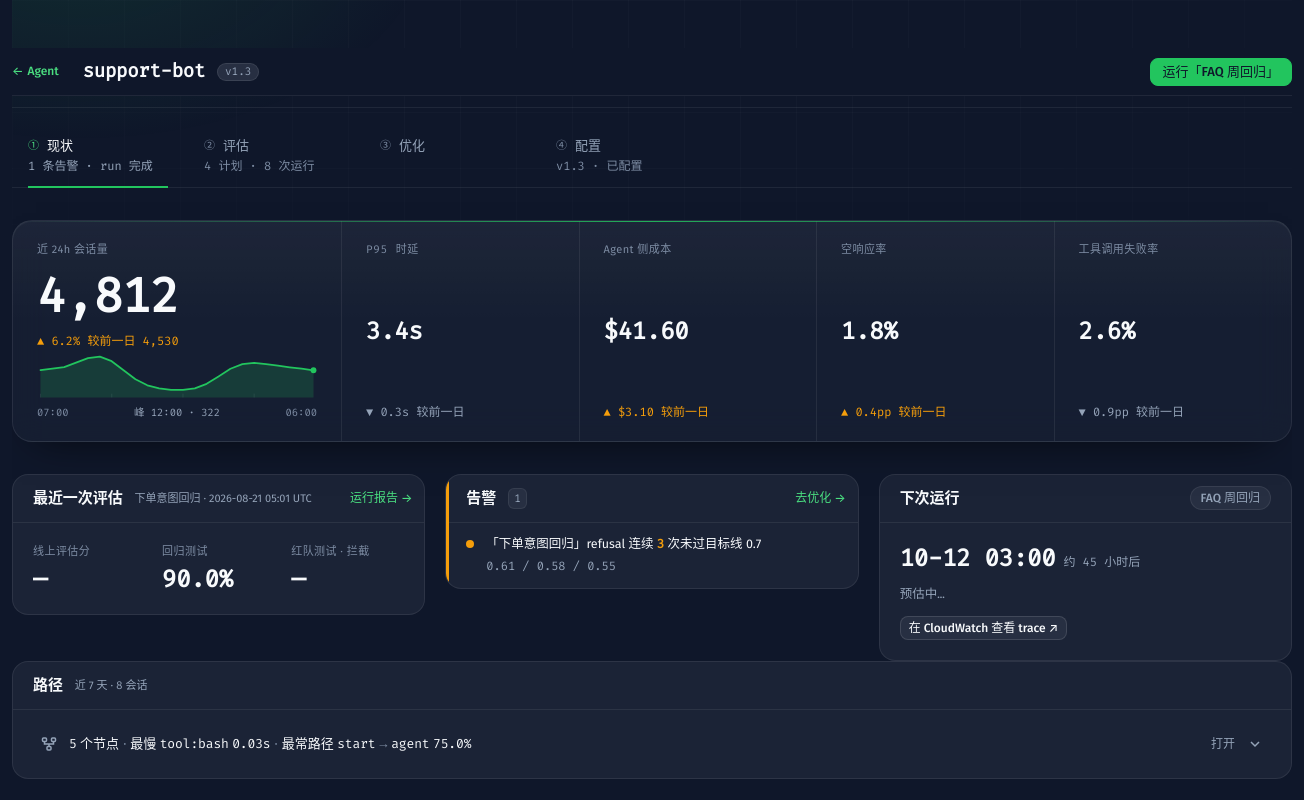
Scenario: ① 现状 › 告警卡：1 条「refusal 连续 3 次未过目标线 0.7」+ 三个值；点 → ③；下次运行卡：计划 chip · 时刻 · 预估 $ · CloudWatch 深链
Expected: the text with test id "agent-alerts-count" reads "1", top-left (514, 491), bottom-right (521, 506)
Click the button with test id "agent-alert".
click(536, 543)  # box top-left (446, 523), bottom-right (858, 588)
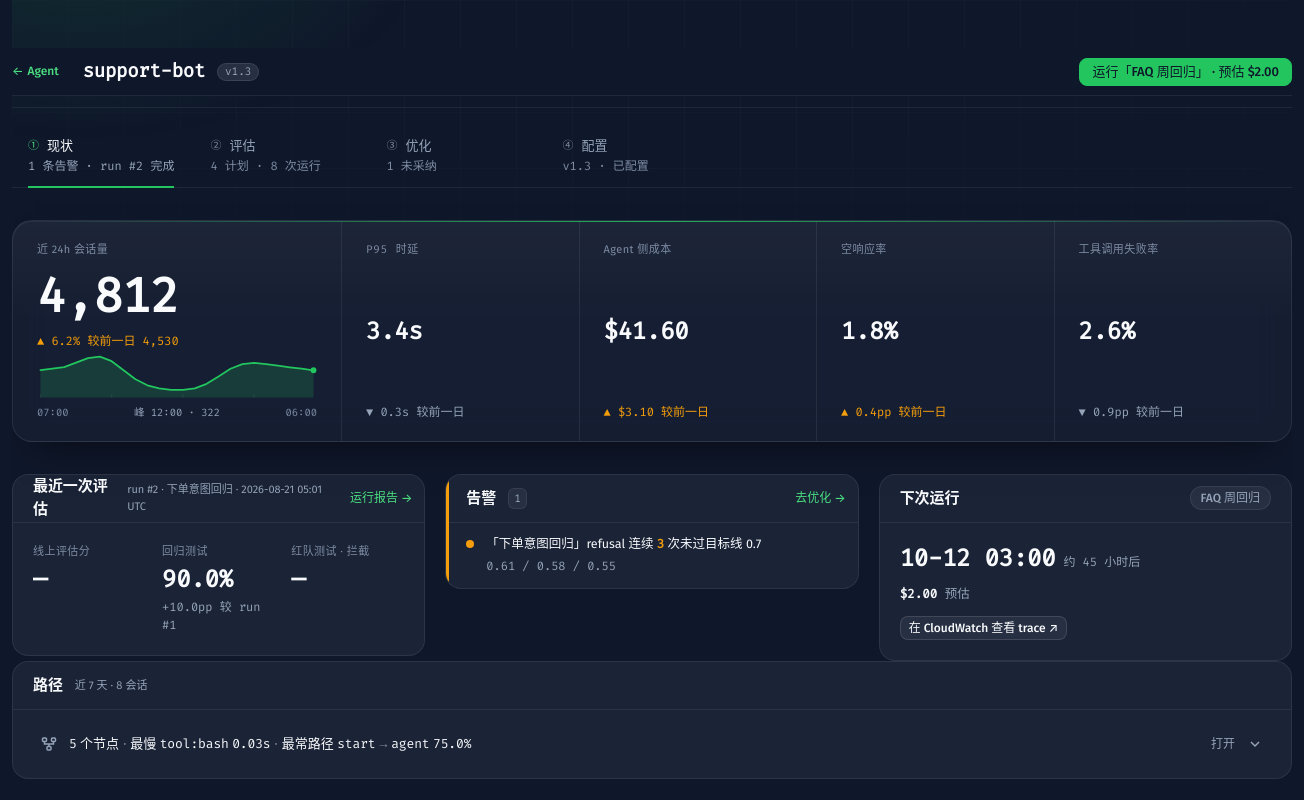
Expected: the text with test id "agent-next-run-plan" reads "FAQ 周回归", top-left (1201, 491), bottom-right (1260, 505)
Expected: the element with test id "agent-next-run-cost" reads "$2.00 预估", top-left (900, 586), bottom-right (970, 602)
